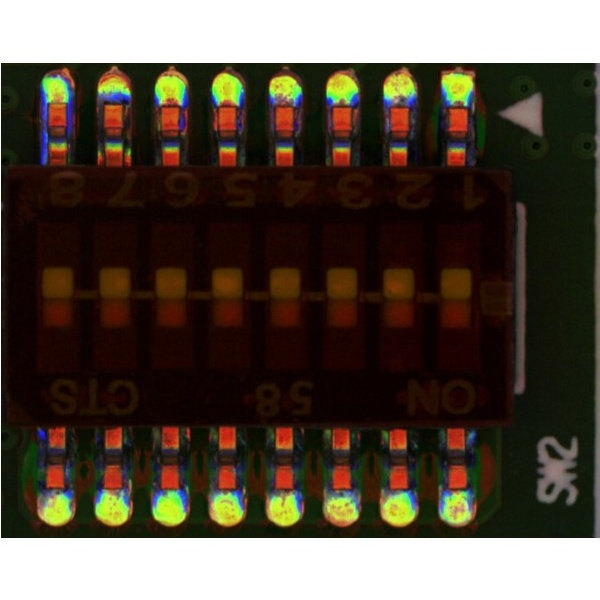Bad_podu: (162, 98, 178, 113), (47, 96, 64, 110), (218, 99, 234, 113)
